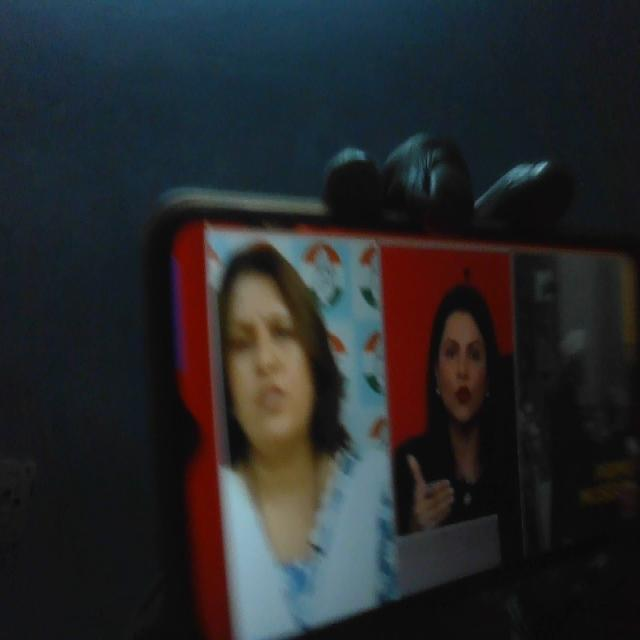fake: (211, 233, 326, 451)
